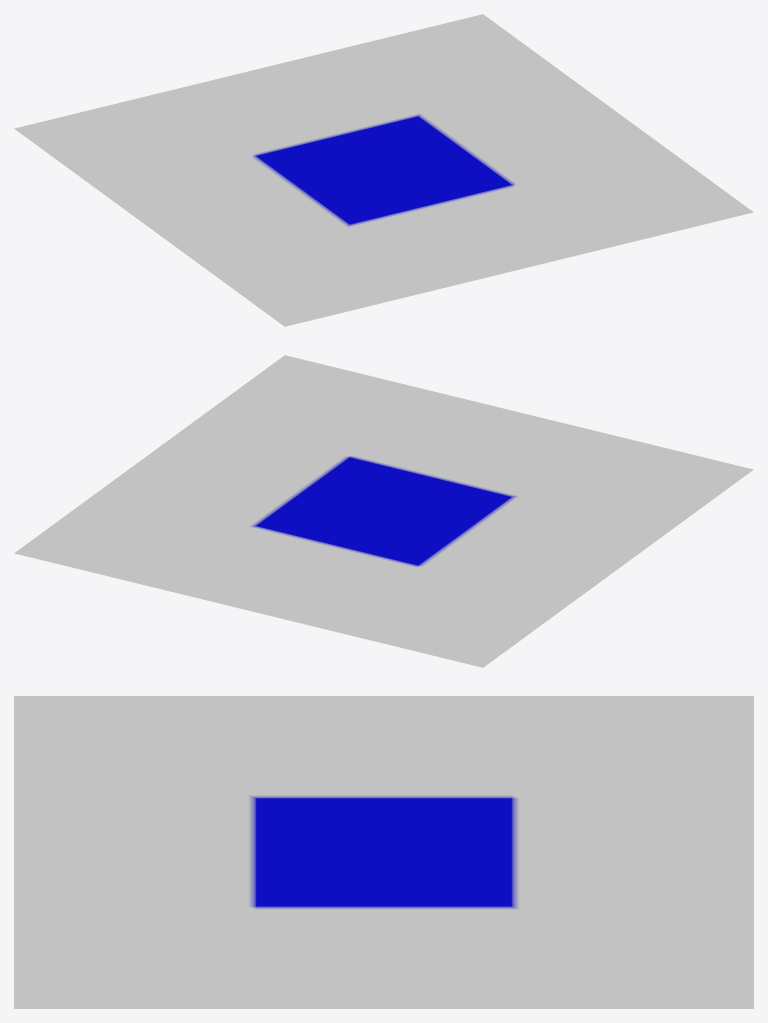
The model's file is WaterPlane.fbx.
The picture shows the model from 3 angles, top to bottom: view 1: azimuth 30°, elevation 25°; view 2: azimuth 150°, elevation 25°; view 3: azimuth 270°, elevation 25°; orthographic projection. The views are drawn at different scales.
Parts seen in each view (by area): view 1: Plane; view 2: Plane; view 3: Plane.
Boxes of the visible parts, x1,y1,x2,y2 form: Plane: (14,14,753,326); Plane: (14,355,753,667); Plane: (14,696,753,1008).
Size of what is drawn, in the model's own units: 253 by 4.12e-05 by 253.
